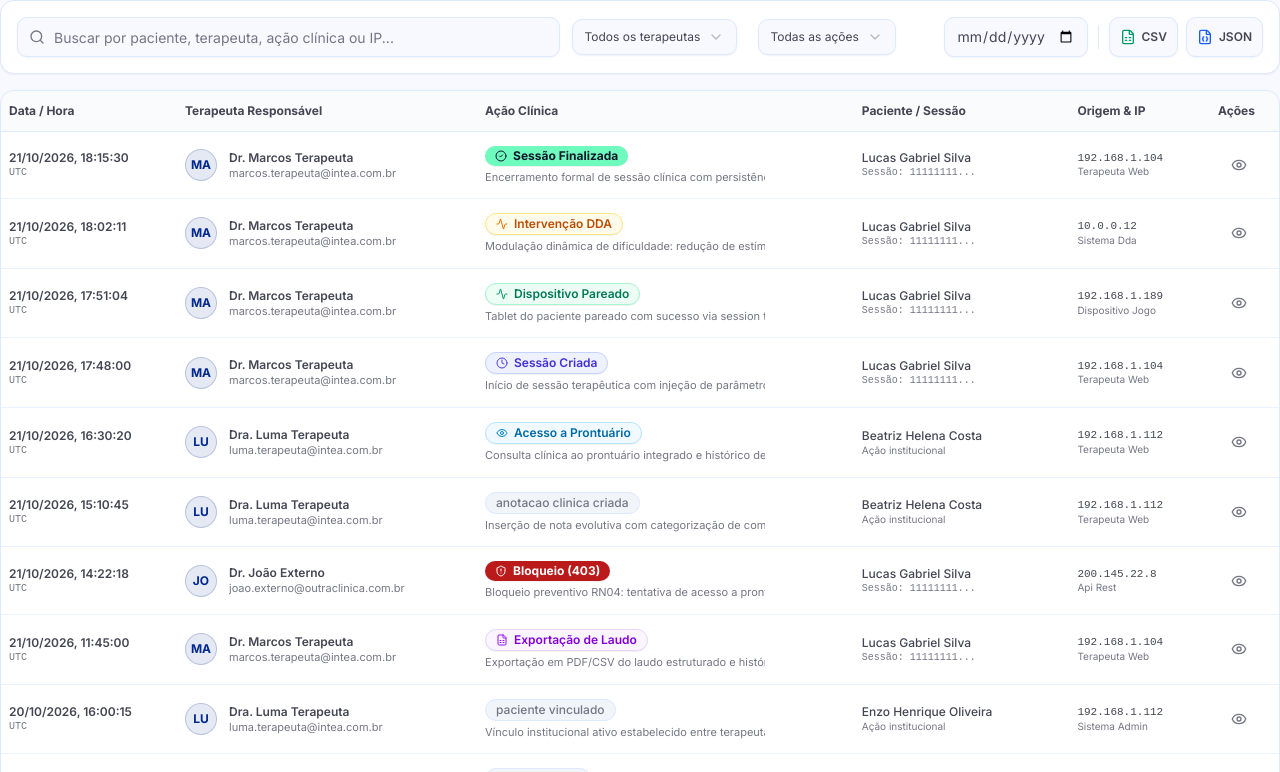
Scenario: Frontend: Auditoria Administrativa (RF07 / RF08) › Componente: TabelaAuditoria › deve filtrar registros quando o usuário digita no campo de busca
Type "Beatriz" into the field with test id "input-busca-auditoria" at (288, 37), box [17,17,560,57]
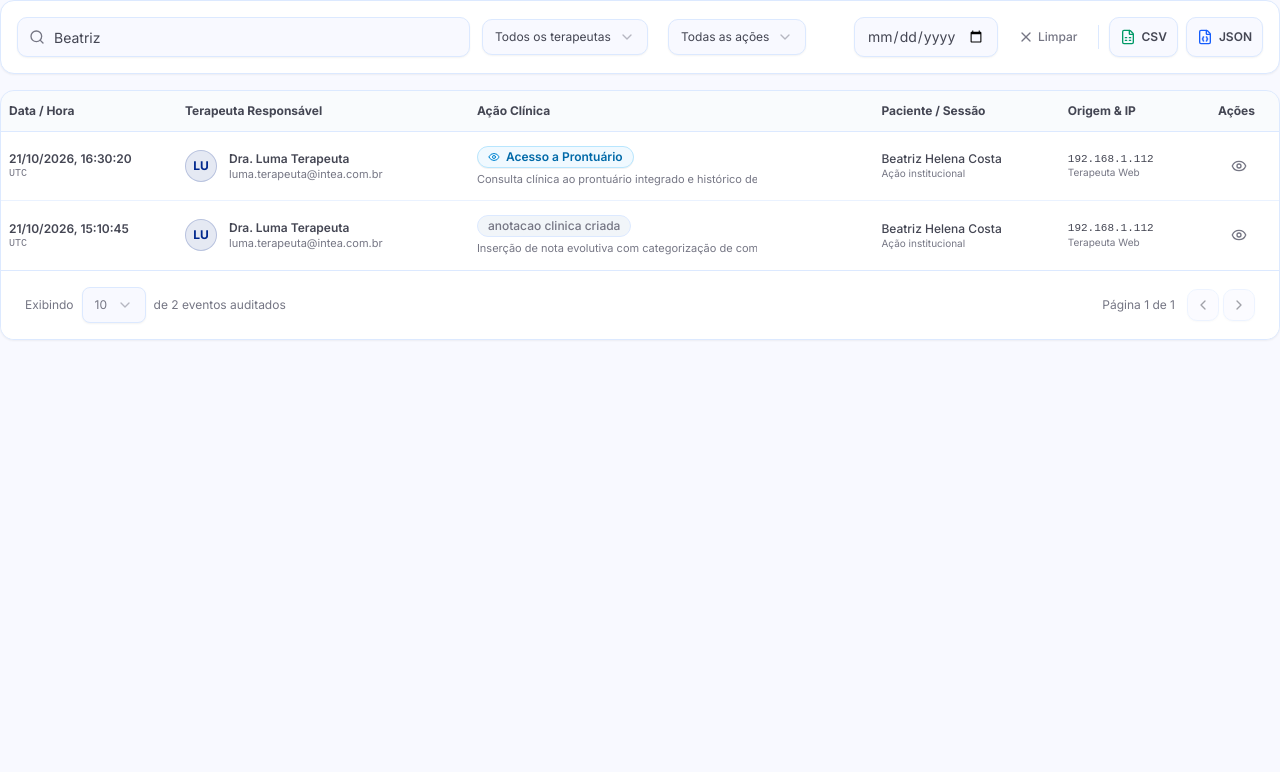
Expected: the text "Beatriz Helena Costa" in the row of "21/10/2026, 16:30:20" is shown, [881,151,1002,166]
Result: the text "Lucas Gabriel Silva" is gone
